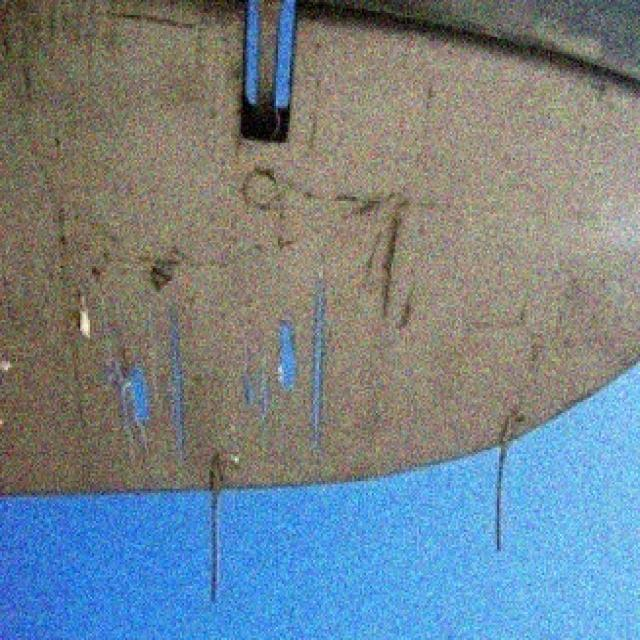crack: (91, 252, 336, 462)
